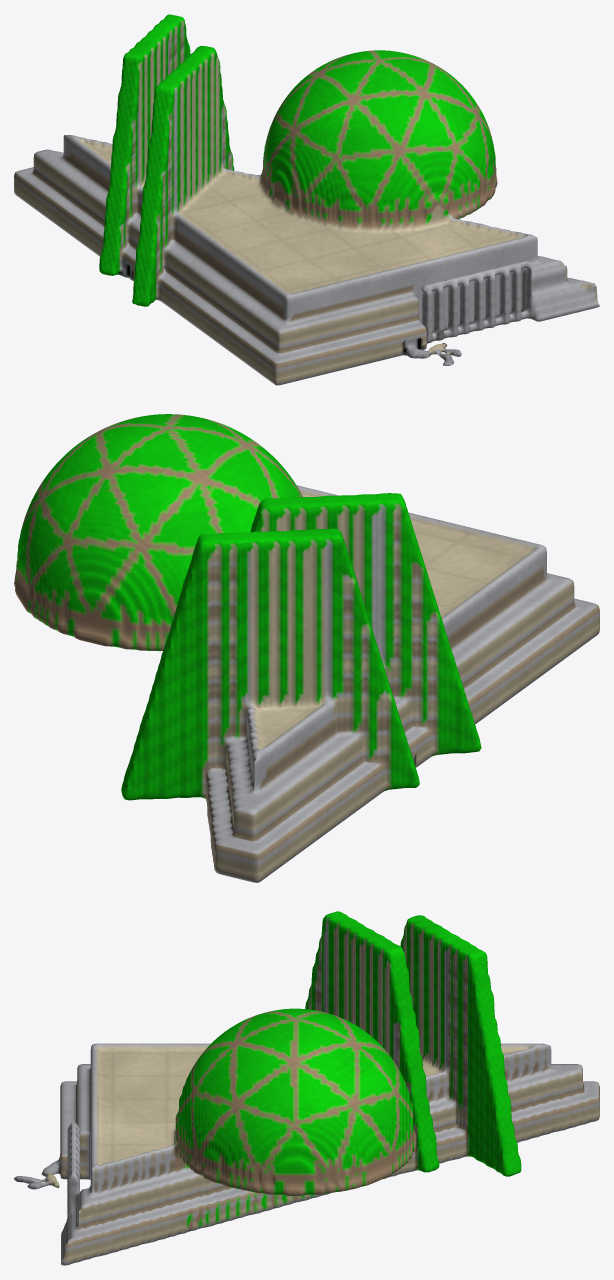
The model's file is tech-center.glb.
3 renders of one model, top to bottom at view 1: azimuth 30°, elevation 25°; view 2: azimuth 150°, elevation 25°; view 3: azimuth 270°, elevation 25°, orthographic. The views are drawn at different scales.
Visible parts, largest first — view 1: tech-center, tech-center-damaged; view 2: tech-center; view 3: tech-center, tech-center-damaged.
Part boxes in pixels (x1=…): tech-center: x1=14, y1=14, x2=599, y2=385; tech-center-damaged: x1=113, y1=257, x2=490, y2=365; tech-center: x1=14, y1=414, x2=599, y2=882; tech-center: x1=60, y1=911, x2=599, y2=1265; tech-center-damaged: x1=14, y1=1061, x2=166, y2=1189.
Size of the model in its own units: 1.91 by 1.03 by 2.7.
